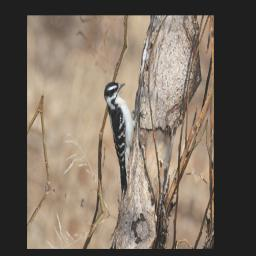Woodpecker: (87, 75, 150, 201)
